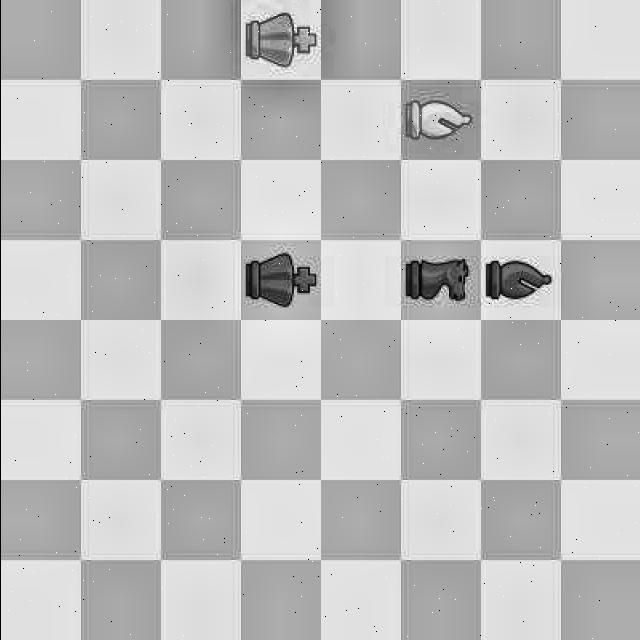Black Knight: (401, 243, 480, 314)
black bishop: (480, 242, 560, 318)
black king: (238, 243, 322, 315)
white bishop: (398, 80, 481, 160)
white king: (239, 1, 325, 80)
